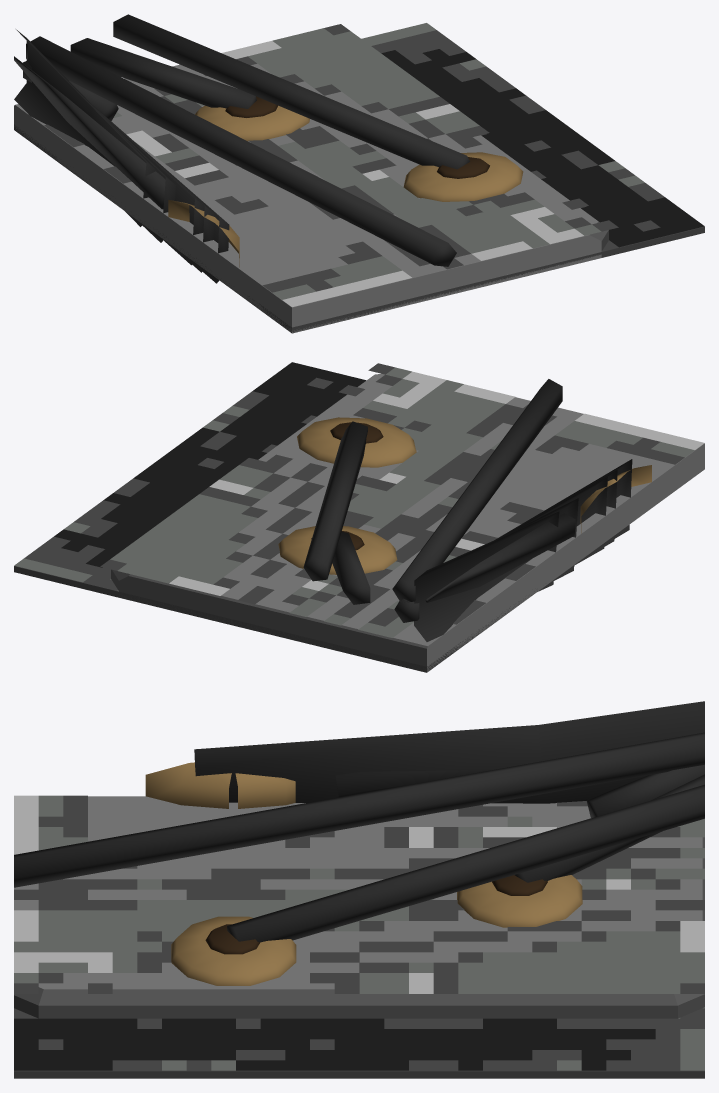
File: newshp-3.glb
3 renders of one model, top to bottom at view 1: azimuth 30°, elevation 25°; view 2: azimuth 150°, elevation 25°; view 3: azimuth 270°, elevation 25°, orthographic. The views are drawn at different scales.
Visible parts, largest first — view 1: newshp-3, newshp-3-drill-81, newshp-3-drill-77, newshp-3-drill-1, newshp-3-drill-5, newshp-3-drill-43; view 2: newshp-3, newshp-3-drill-81, newshp-3-drill-77, newshp-3-drill-1, newshp-3-drill-43, newshp-3-drill-5; view 3: newshp-3, newshp-3-drill-77.
Part boxes in pixels (bbox=[...]): newshp-3: bbox=[14, 14, 704, 333]; newshp-3-drill-81: bbox=[88, 102, 204, 265]; newshp-3-drill-77: bbox=[83, 97, 229, 283]; newshp-3-drill-1: bbox=[84, 99, 156, 226]; newshp-3-drill-5: bbox=[82, 97, 175, 242]; newshp-3-drill-43: bbox=[84, 98, 214, 272]; newshp-3: bbox=[14, 362, 704, 672]; newshp-3-drill-81: bbox=[479, 477, 607, 592]; newshp-3-drill-77: bbox=[479, 459, 632, 596]; newshp-3-drill-1: bbox=[478, 511, 559, 597]; newshp-3-drill-43: bbox=[479, 469, 617, 594]; newshp-3-drill-5: bbox=[478, 498, 578, 597]; newshp-3: bbox=[14, 701, 704, 1078]; newshp-3-drill-77: bbox=[194, 725, 541, 802].
Size of the model in its own units: 2 by 0.5002 by 2.33.
